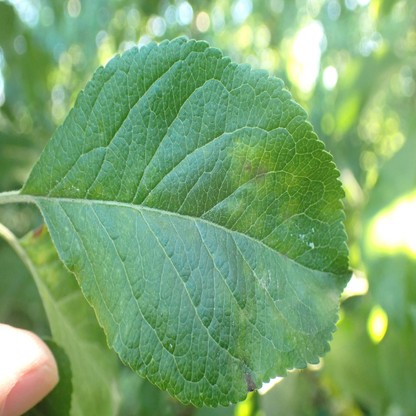scab: (234, 308, 286, 399), (231, 143, 272, 196), (302, 275, 341, 324), (228, 199, 261, 233), (279, 199, 300, 228), (280, 247, 290, 263)
